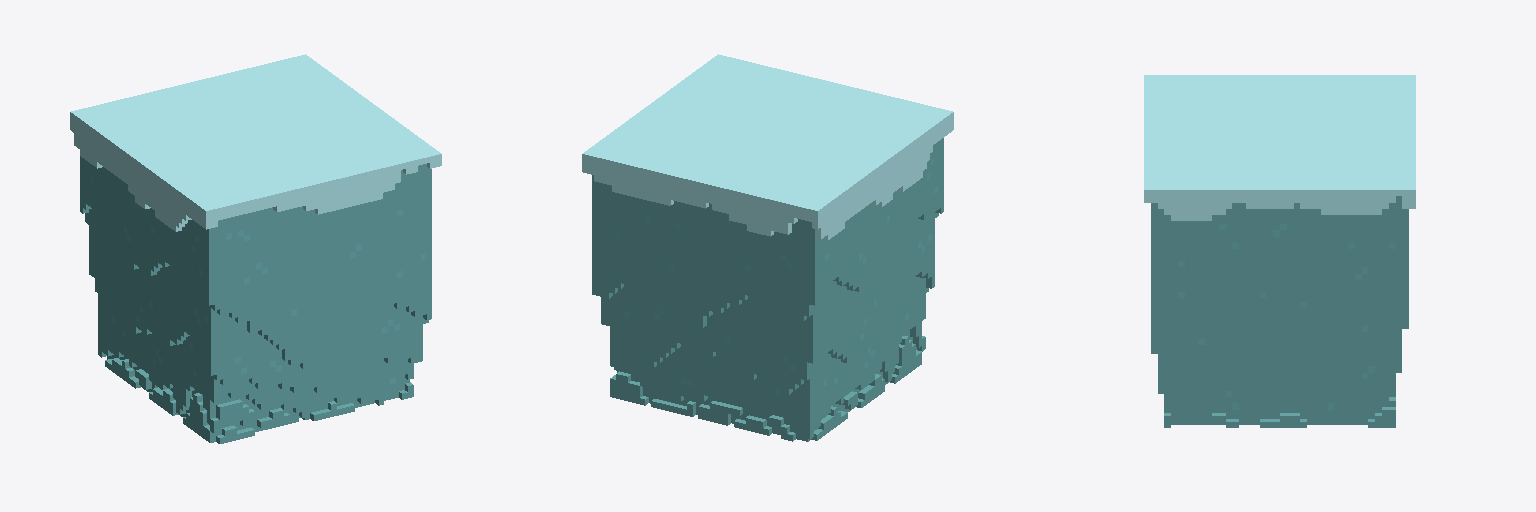
3 views of the same model, side by side, from view 1: azimuth 30°, elevation 25°; view 2: azimuth 150°, elevation 25°; view 3: azimuth 270°, elevation 25° (orthographic).
Visible parts, largest first — view 1: snowy_ice; view 2: snowy_ice; view 3: snowy_ice.
Boxes of the visible parts, box(x1,y1,x2,y2) form: snowy_ice: box(70, 54, 441, 443); snowy_ice: box(582, 54, 953, 441); snowy_ice: box(1144, 75, 1415, 427).
Bounding box in the file's own units: 40 × 40 × 40.
Materials: 1 (1 with a texture image).